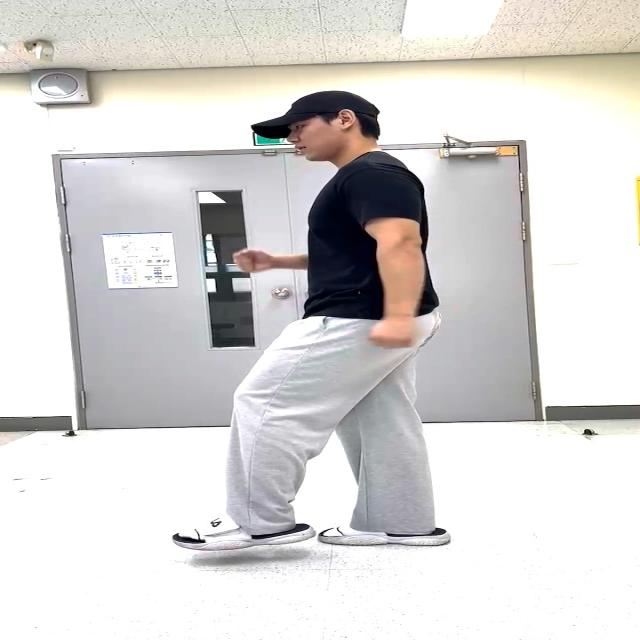leg: (152, 323, 358, 550)
